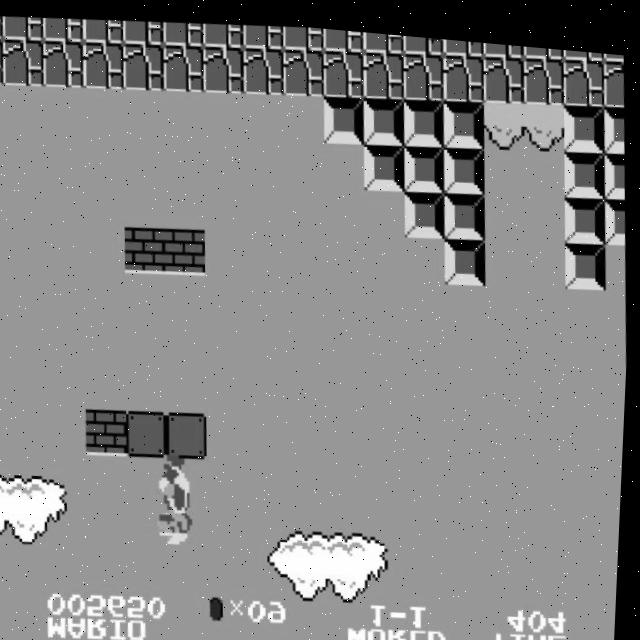1- brick_block: (125, 222, 170, 273), (165, 223, 210, 274), (88, 406, 133, 456)
17- undestructible_block: (162, 40, 207, 91), (201, 40, 246, 91), (241, 41, 286, 92), (442, 45, 487, 96), (482, 45, 527, 96), (522, 46, 567, 97), (562, 46, 607, 97), (2, 37, 46, 88), (42, 38, 86, 89), (82, 38, 126, 89), (122, 39, 166, 90), (282, 42, 326, 93), (322, 43, 366, 94), (362, 43, 406, 94), (402, 44, 446, 95), (2, 14, 45, 42), (42, 15, 85, 43), (82, 16, 125, 44), (122, 17, 165, 45), (162, 17, 205, 45), (202, 18, 245, 46), (242, 18, 285, 46), (602, 48, 626, 97), (282, 20, 325, 47), (322, 23, 365, 48), (361, 25, 404, 48), (401, 28, 444, 49), (441, 31, 484, 50), (482, 34, 524, 51), (522, 37, 564, 51), (562, 39, 604, 52), (0, 38, 6, 85), (603, 42, 624, 51), (0, 16, 4, 40)
3- empty_block: (128, 406, 173, 456), (168, 407, 213, 457)
4- fire_mario: (152, 449, 204, 549)
9- hard_block: (445, 228, 490, 279), (443, 136, 488, 187), (565, 230, 610, 281), (563, 138, 608, 189), (562, 93, 607, 144), (404, 182, 449, 232), (444, 183, 489, 233), (564, 185, 609, 235), (323, 88, 367, 139), (364, 135, 408, 186), (363, 89, 407, 140), (404, 136, 448, 187), (403, 90, 447, 141), (443, 91, 487, 142), (604, 140, 628, 189), (603, 94, 627, 143), (605, 187, 628, 234)
